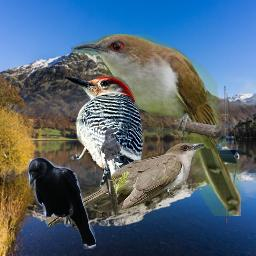Crow: (27, 157, 96, 250), (100, 128, 121, 170)
Cuckoo: (71, 34, 241, 216), (44, 141, 204, 227)
Woodpecker: (59, 69, 147, 200)
